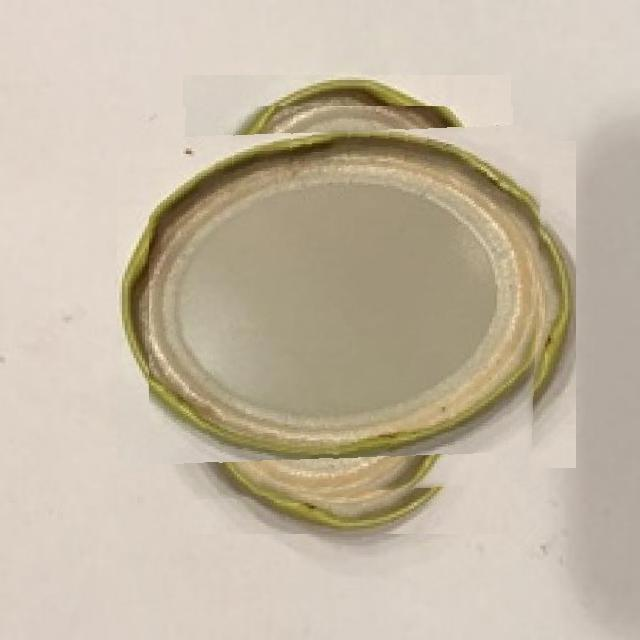recyclable: (149, 106, 545, 503)
